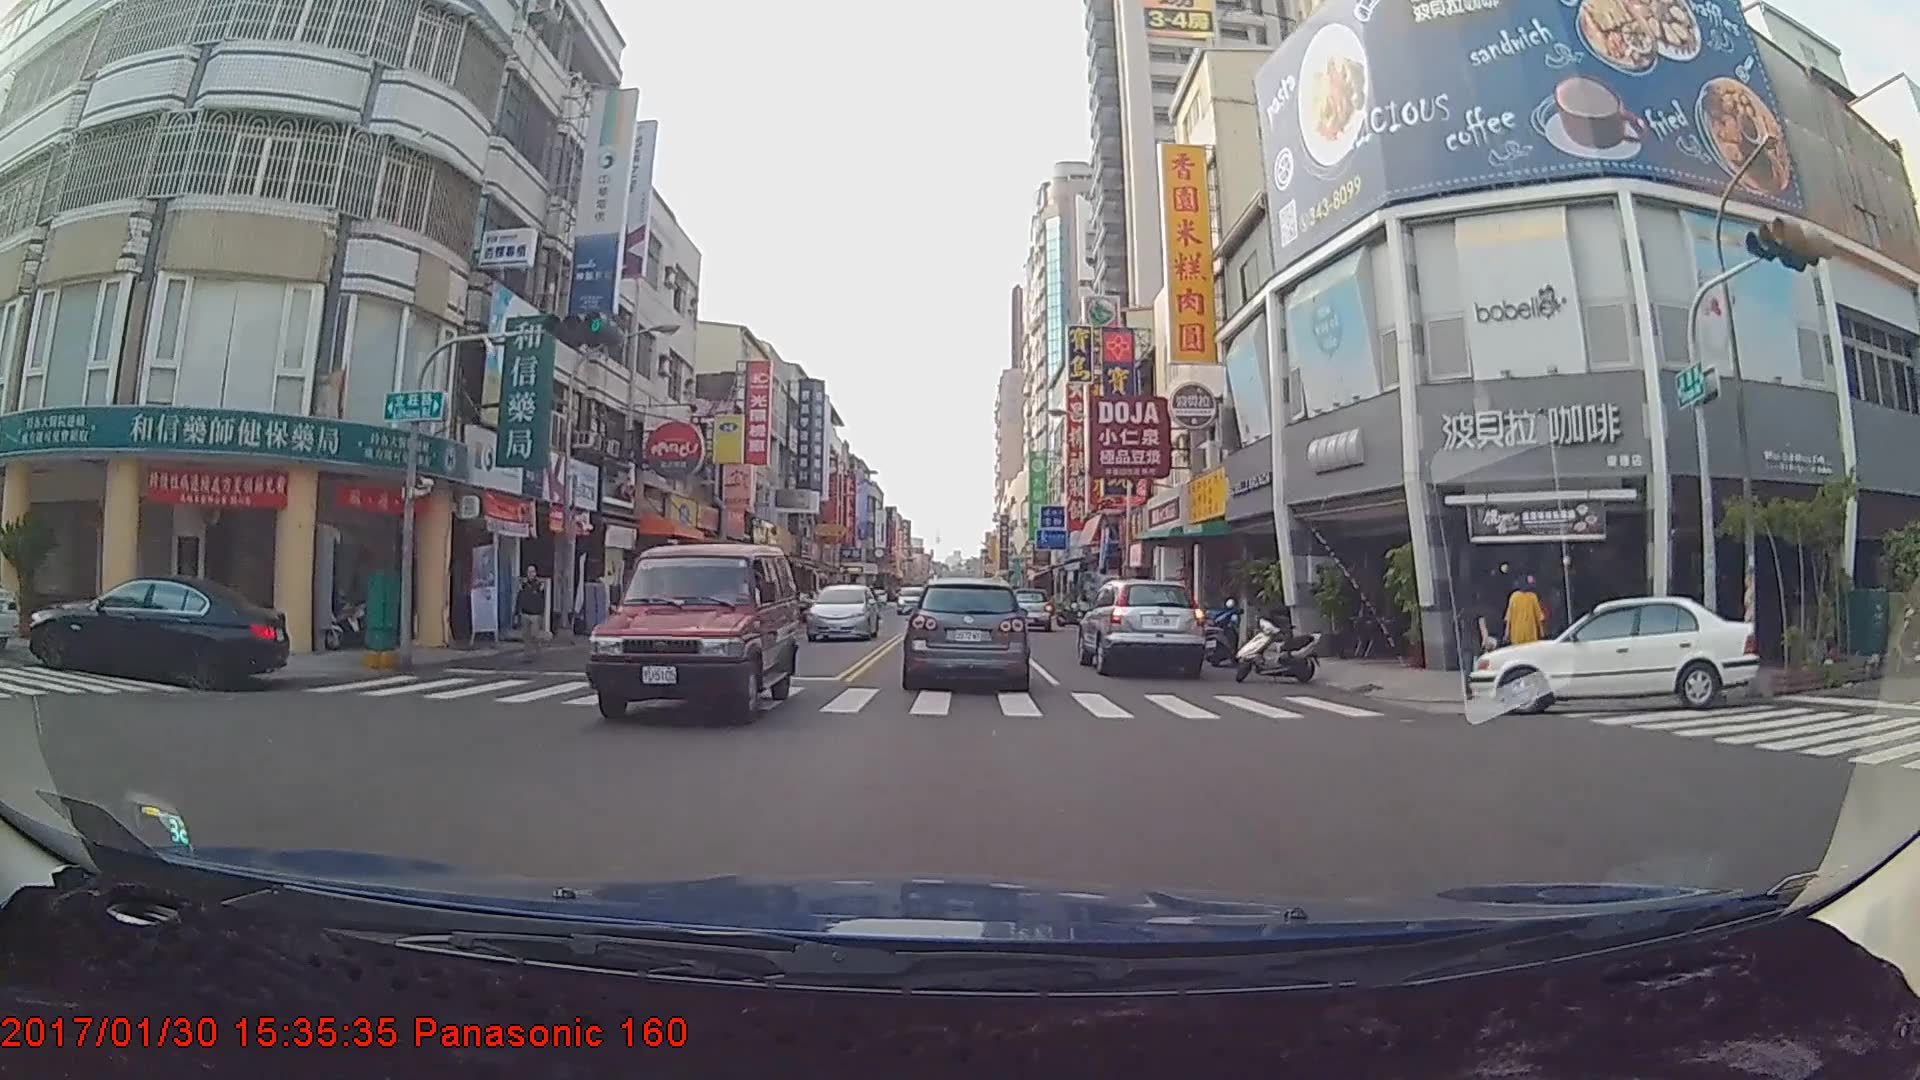pedestrian: (1503, 571, 1545, 672), (1458, 588, 1493, 704), (515, 564, 550, 666)
vehicle: (580, 542, 803, 726), (1468, 593, 1763, 714), (24, 570, 288, 689), (902, 579, 1026, 690), (1075, 576, 1206, 678), (804, 582, 881, 643), (1006, 587, 1052, 631), (895, 583, 930, 614)
